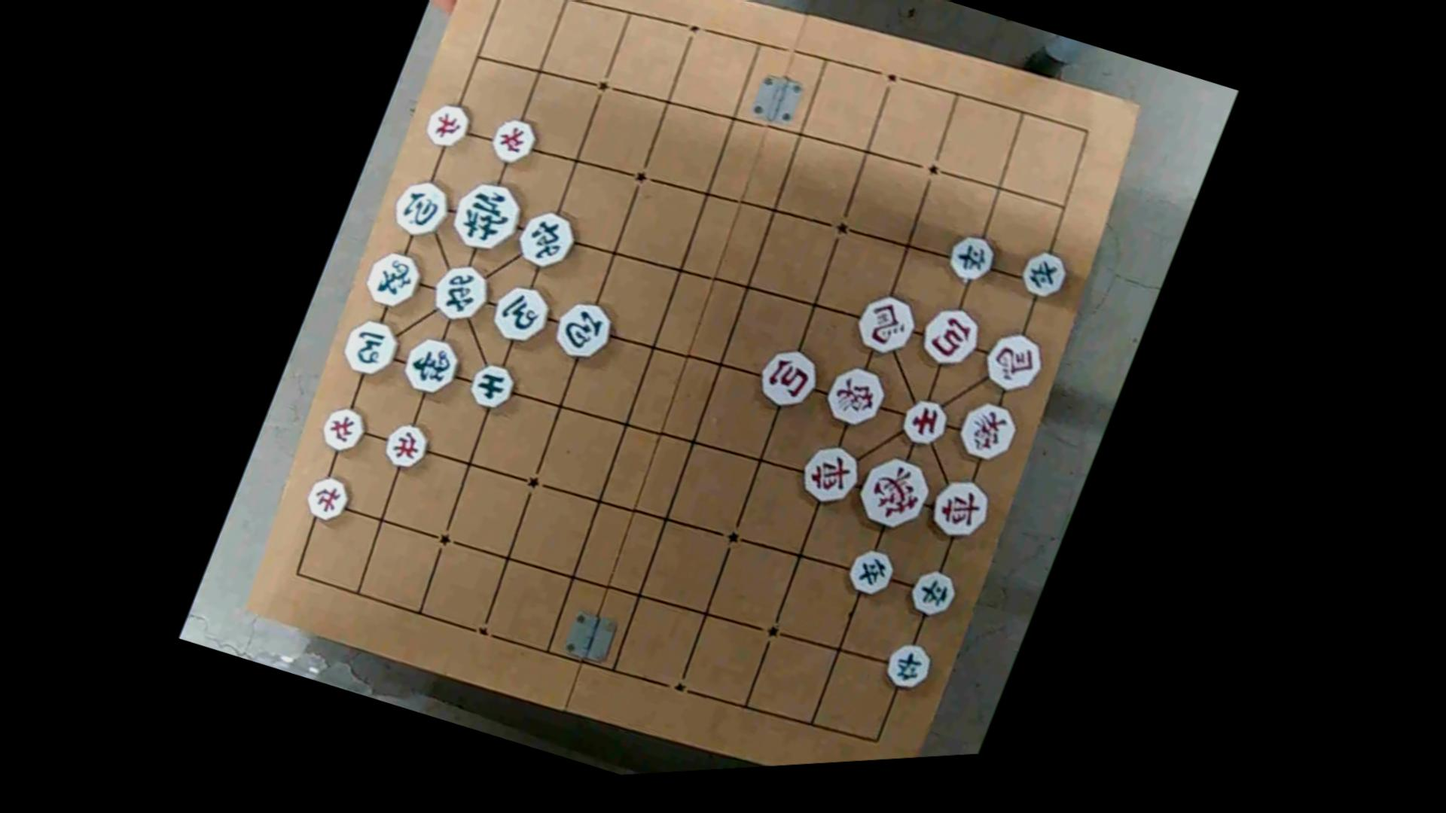cha_green: (511, 200, 582, 277), (426, 256, 494, 330)
cha_red: (920, 467, 996, 549), (797, 437, 865, 513)
jol_green: (1015, 243, 1075, 306), (943, 230, 999, 291), (842, 544, 896, 602), (883, 636, 936, 694), (904, 565, 959, 620)
jol_red: (380, 416, 432, 473), (488, 111, 540, 168), (300, 470, 351, 525), (422, 98, 473, 153), (318, 401, 368, 456)
ma_green: (483, 274, 554, 349), (340, 311, 406, 382)
ma_red: (975, 324, 1050, 402), (848, 288, 920, 362)
po_green: (549, 292, 618, 365), (387, 172, 456, 243)
po_red: (755, 341, 824, 415), (915, 300, 984, 373)
sa_green: (460, 355, 521, 416)
sa_red: (895, 392, 951, 451)
sang_green: (395, 328, 467, 401), (357, 243, 426, 313)
sang_red: (821, 362, 892, 437), (952, 393, 1023, 467)
wang_green: (443, 171, 526, 260)
wang_red: (852, 448, 937, 539)
